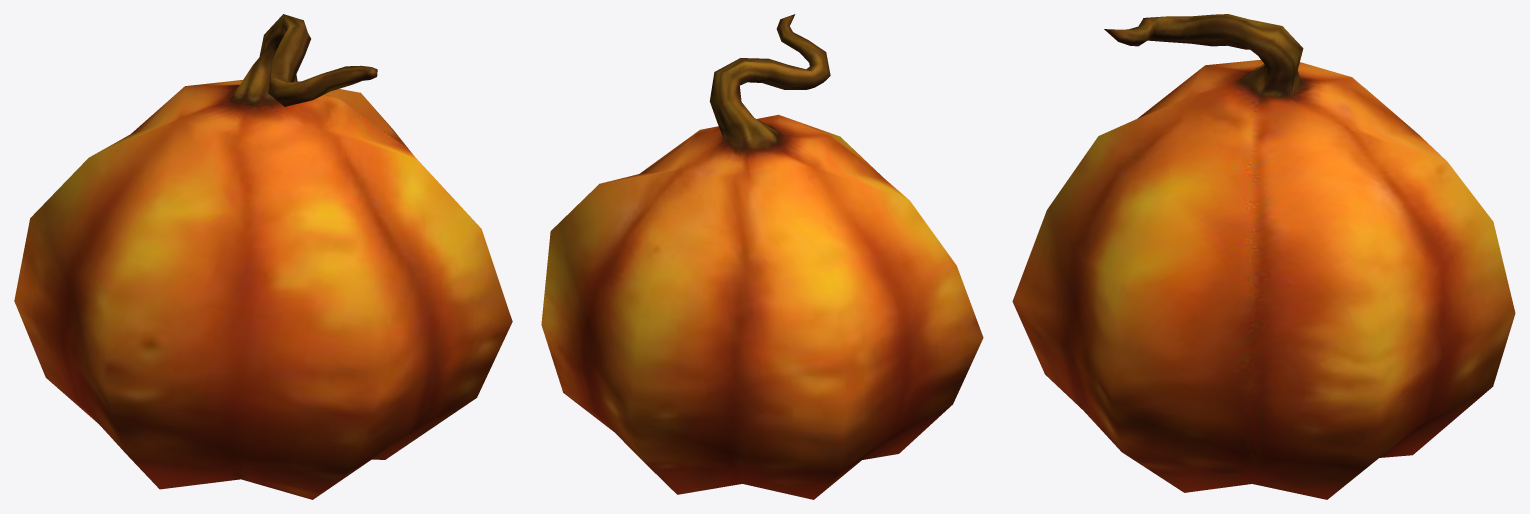
Rendered from SM_pumpkin_02.gltf.
3 renders of one model, left to right at view 1: azimuth 30°, elevation 25°; view 2: azimuth 150°, elevation 25°; view 3: azimuth 270°, elevation 25°, orthographic. The views are drawn at different scales.
Parts seen in each view (by area): view 1: SM_pumpkin_02; view 2: SM_pumpkin_02; view 3: SM_pumpkin_02.
Part boxes in pixels (<box>): SM_pumpkin_02: <box>14,14,512,499</box>; SM_pumpkin_02: <box>541,14,983,499</box>; SM_pumpkin_02: <box>1012,14,1515,499</box>.
Size of the model in its own units: 0.2346 by 0.2468 by 0.255.
1 material, 1 textured.
